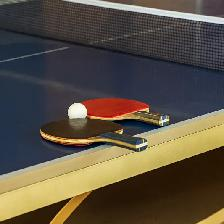WhiteBall: (68, 102, 87, 119)
